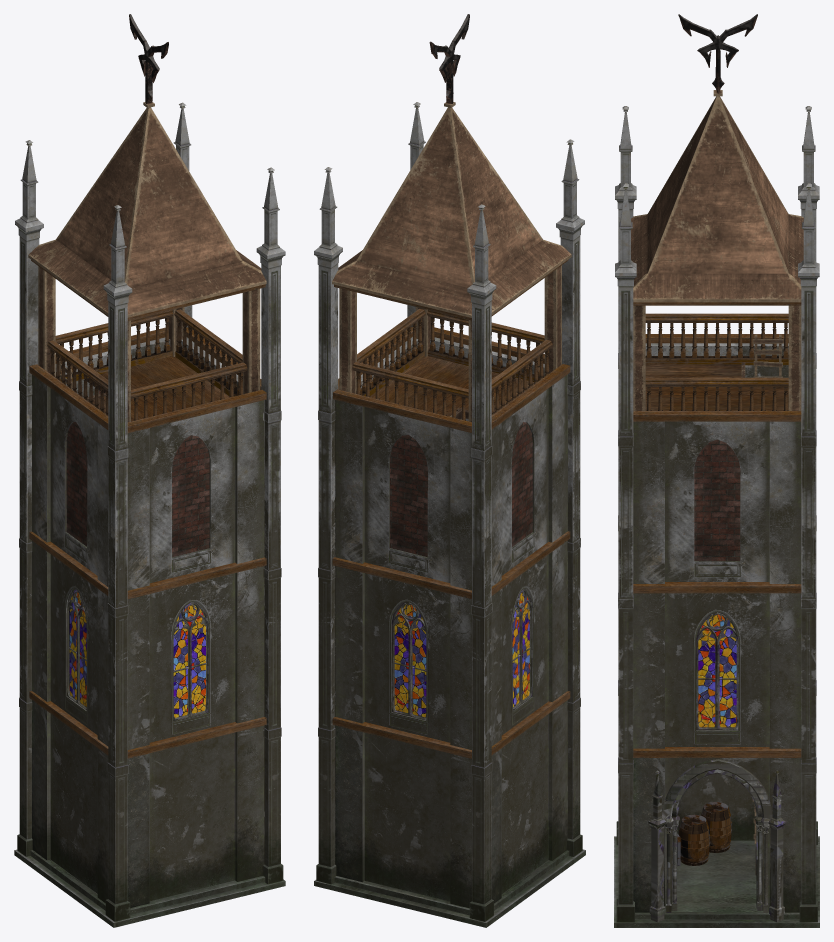
File: church_tower.fbx
3 views of the same model, side by side, from view 1: azimuth 30°, elevation 25°; view 2: azimuth 150°, elevation 25°; view 3: azimuth 270°, elevation 25° (orthographic). The views are drawn at different scales.
Visible parts, largest first — view 1: wall2_lp.001, column_lp, wall2_lp.002, roof_lp, wood_lp.002, fundament_lp, balk_lp, 33_lp.003, wood_lp.001, floor_lp, fence_lp, fence_lp.003 (+6 smaller); view 2: wall2_lp, column_lp, wall2_lp.002, roof_lp, wood_lp.003, fundament_lp, balk_lp, 33_lp.002, wood_lp.001, floor_lp, fence_lp, fence_lp.002 (+5 smaller); view 3: wall_lp, column_lp, roof_lp, fundament_lp, wood_lp, 33_lp, fence_lp.001, wall2_lp.002, floor_lp, clcolumn2_lp.001, ark_lp.001, balk_lp (+7 smaller).
Part boxes in pixels (x1,y1,x2,y2): wall2_lp.001: (127,400,264,907); column_lp: (15,102,285,921); wall2_lp.002: (32,375,108,902); roof_lp: (28,102,266,317); wood_lp.002: (127,284,266,758); fundament_lp: (14,849,285,927); balk_lp: (38,266,260,422); 33_lp.003: (173,602,208,720); wood_lp.001: (29,259,108,755); floor_lp: (86,356,229,421); fence_lp: (174,309,242,396); fence_lp.003: (55,310,173,383); wall2_lp: (335,400,471,908); column_lp: (314,102,584,921); wall2_lp.002: (491,374,567,903); roof_lp: (332,102,571,317); wood_lp.003: (332,284,471,758); fundament_lp: (314,849,585,927); balk_lp: (339,265,561,421); 33_lp.002: (391,602,426,720); wood_lp.001: (491,259,570,755); floor_lp: (370,356,533,419); fence_lp: (357,309,425,395); fence_lp.002: (427,310,544,381); wall_lp: (633,421,801,912); column_lp: (615,106,819,922); roof_lp: (631,90,803,302); fundament_lp: (614,836,819,927); wood_lp: (633,302,801,757); 33_lp: (696,612,738,729); fence_lp.001: (645,313,788,365); wall2_lp.002: (645,343,788,840); floor_lp: (645,362,788,410); clcolumn2_lp.001: (648,770,786,922); ark_lp.001: (662,759,772,908); balk_lp: (633,305,801,410).
Size of the model in its own units: 5520 by 25798 by 5527.
4 materials, 4 textured.
